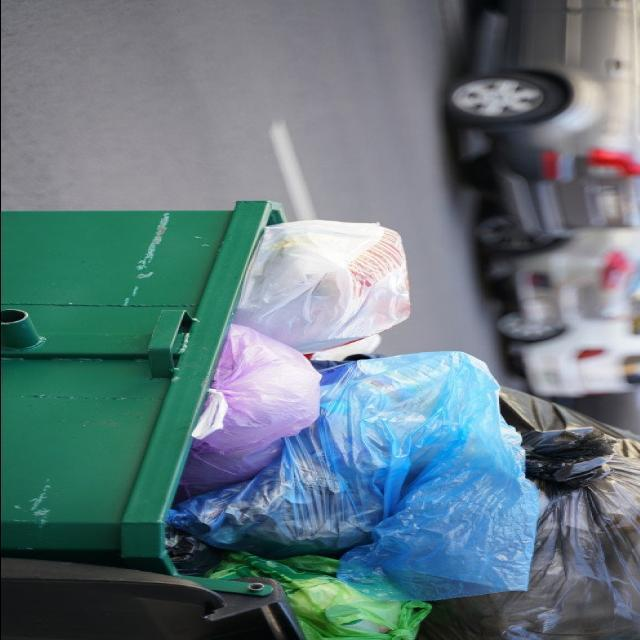Garbage: (168, 220, 640, 640)
Plastic_Bag: (168, 351, 538, 600), (419, 388, 640, 640), (175, 324, 320, 500), (232, 220, 410, 354), (209, 551, 430, 640), (165, 528, 220, 576)
